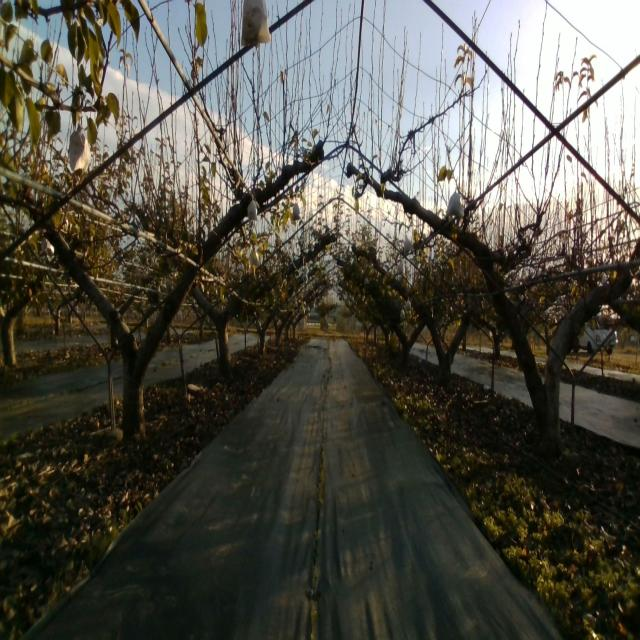pearbags: (238, 0, 272, 47), (68, 123, 92, 185), (445, 192, 465, 218), (247, 194, 258, 221)
